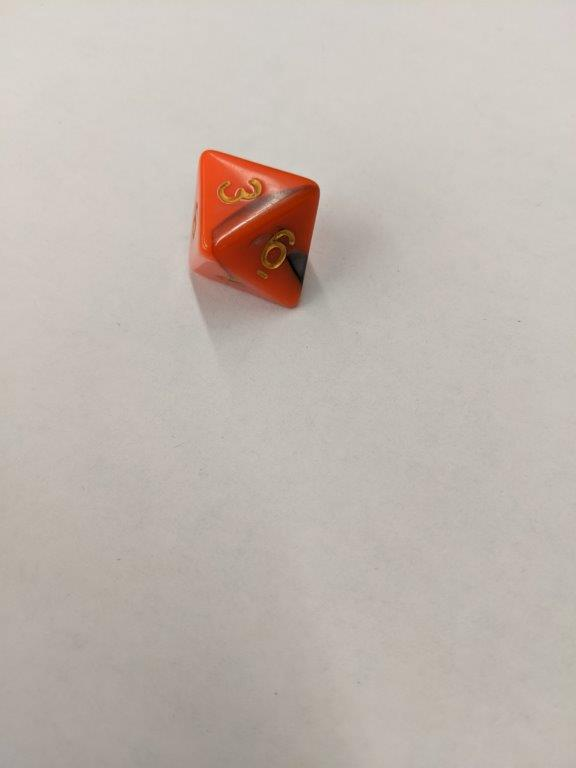d8-3: (191, 151, 323, 308)
